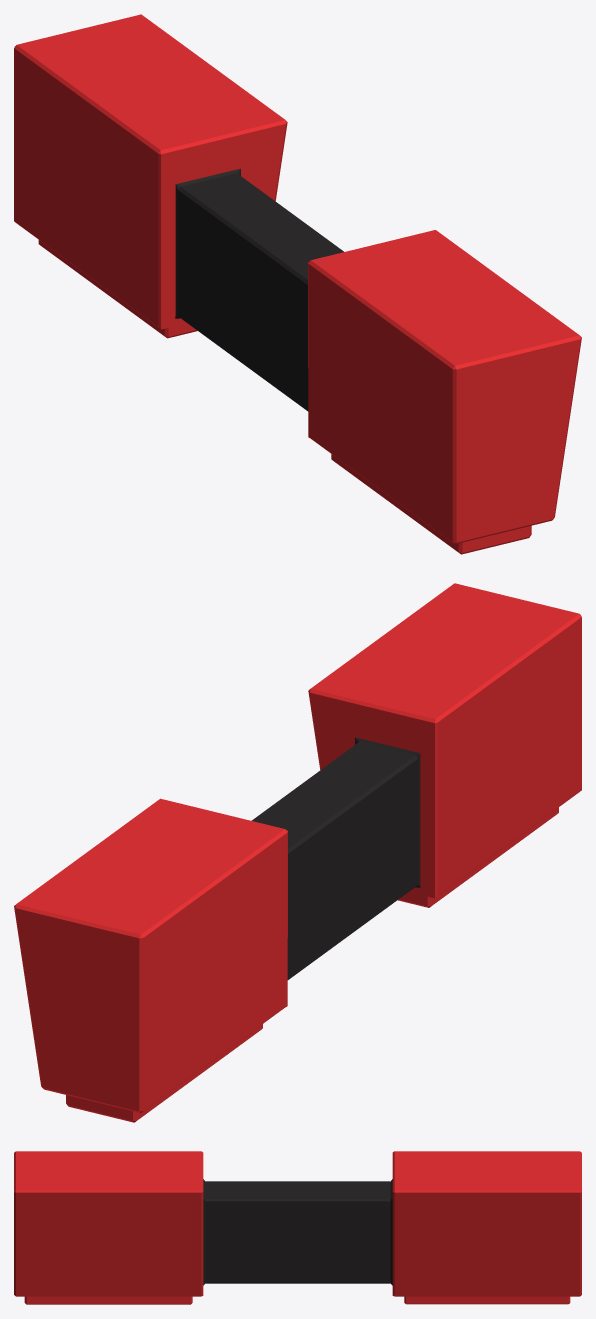
File: SM_LonDesk_01.fbx
The picture shows the model from 3 angles, top to bottom: view 1: azimuth 30°, elevation 25°; view 2: azimuth 150°, elevation 25°; view 3: azimuth 270°, elevation 25°; orthographic projection. The views are drawn at different scales.
Visible parts, largest first — view 1: 立方体.011; view 2: 立方体.011; view 3: 立方体.011.
Part boxes in pixels (x1,y1,x2,y2): 立方体.011: [14, 14, 581, 554]; 立方体.011: [14, 583, 581, 1122]; 立方体.011: [14, 1151, 581, 1304].
Size of the model in its own units: 102 by 149 by 600.
